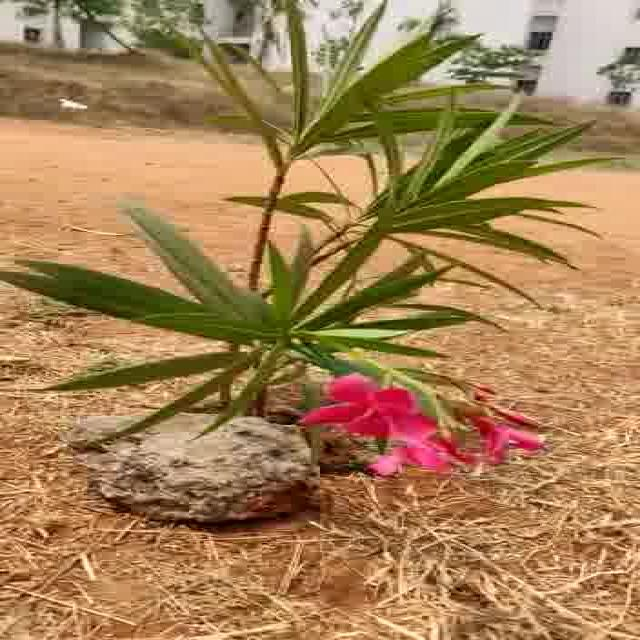Oleander: (79, 19, 600, 444)
